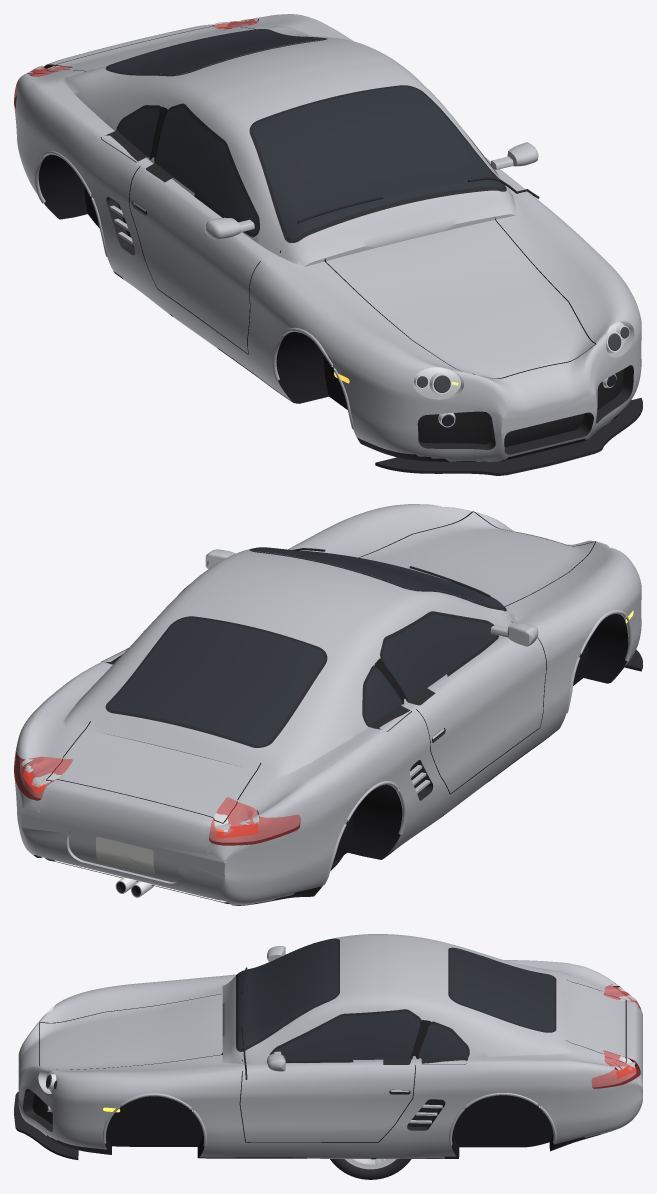
File: gavial.glb
3 renders of one model, top to bottom at view 1: azimuth 30°, elevation 25°; view 2: azimuth 150°, elevation 25°; view 3: azimuth 270°, elevation 25°, orthographic. The views are drawn at different scales.
Visible parts, largest first — view 1: Body; view 2: Body; view 3: Body, TyreR.
Boxes of the visible parts, <box> form: Body: <box>14,14,642,475</box>; Body: <box>14,504,642,905</box>; Body: <box>14,934,642,1159</box>; TyreR: <box>330,1159,411,1179</box>.
Bounding box in the file's own units: 1.92 × 1.64 × 4.37.
